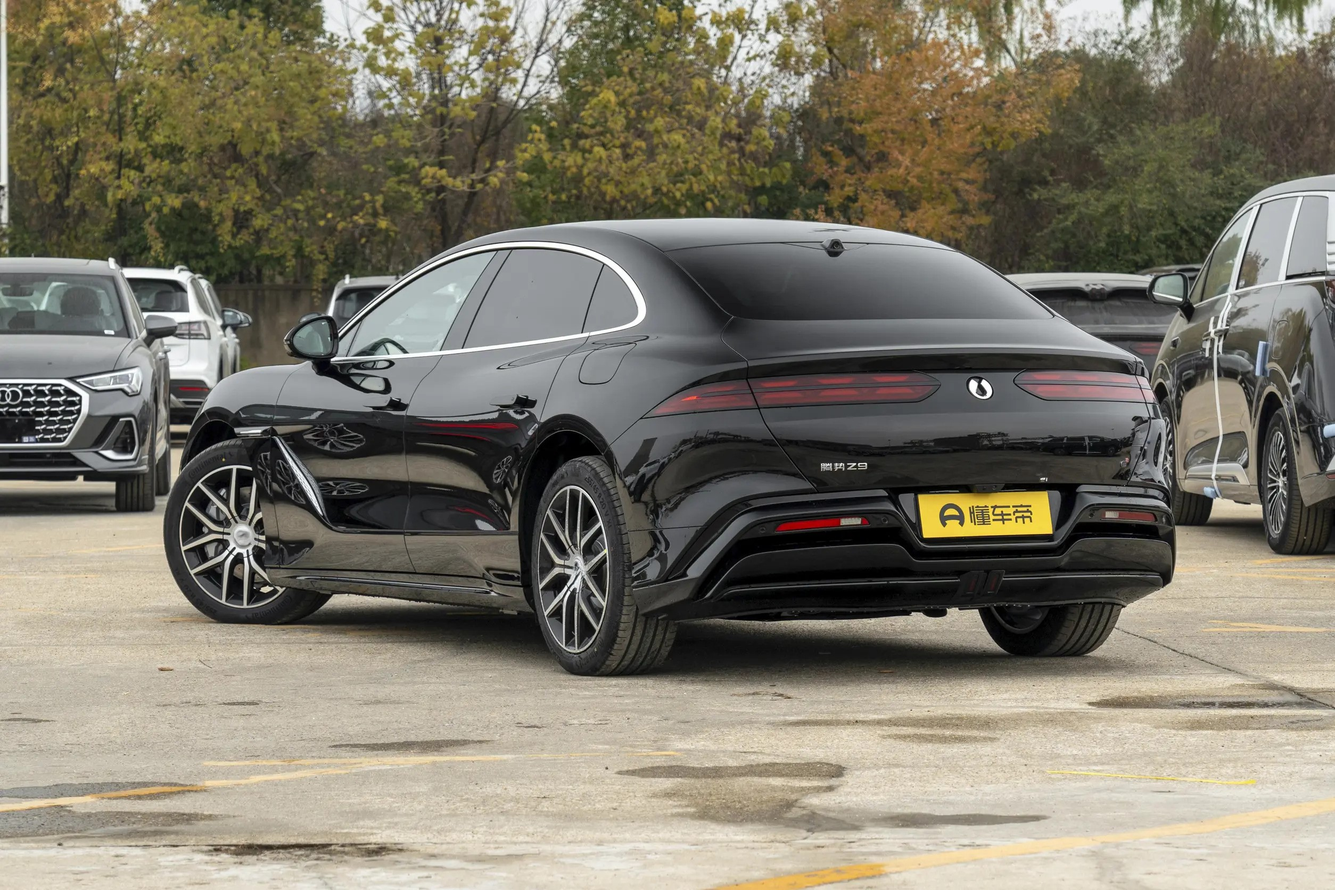DENZA: (969, 379, 991, 399)
